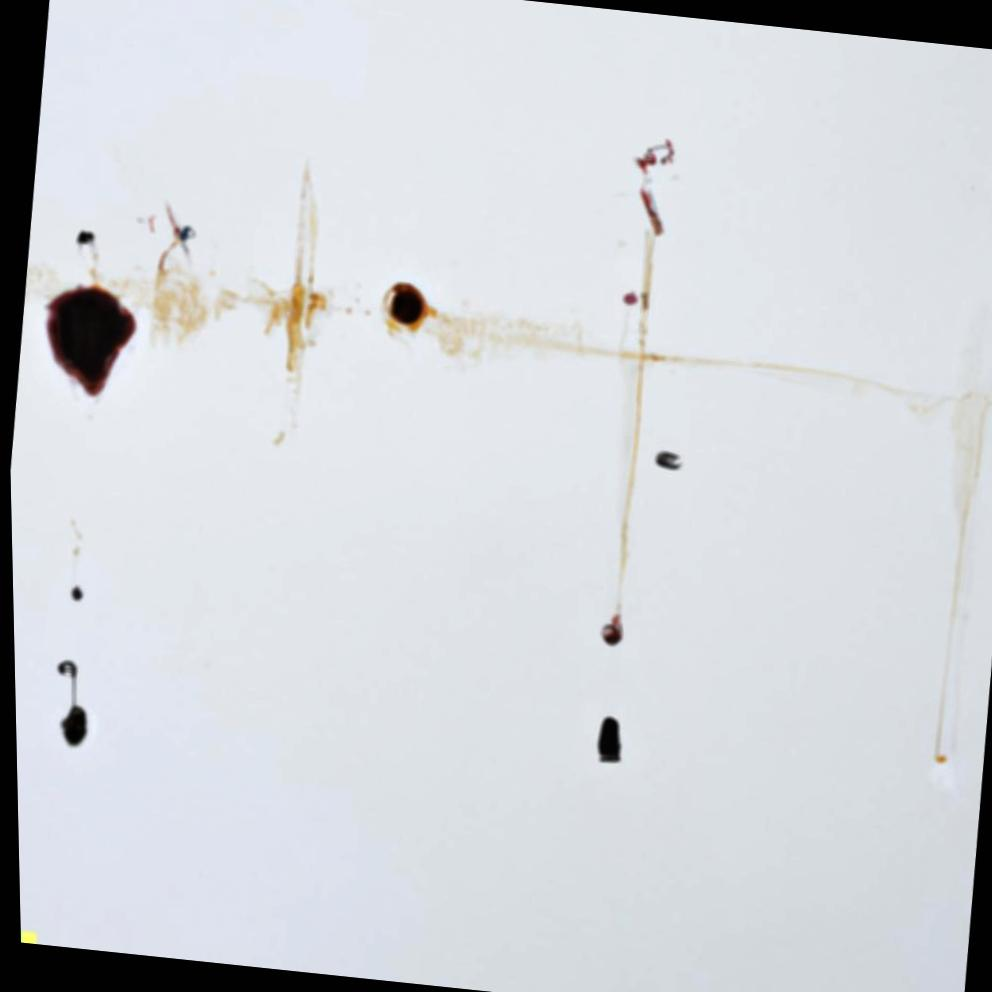Fire: (44, 282, 135, 396)
